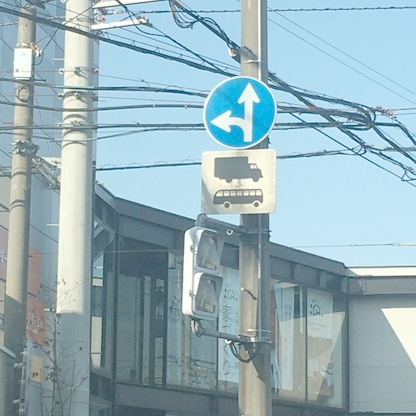Direction_sign: (201, 74, 280, 155)
